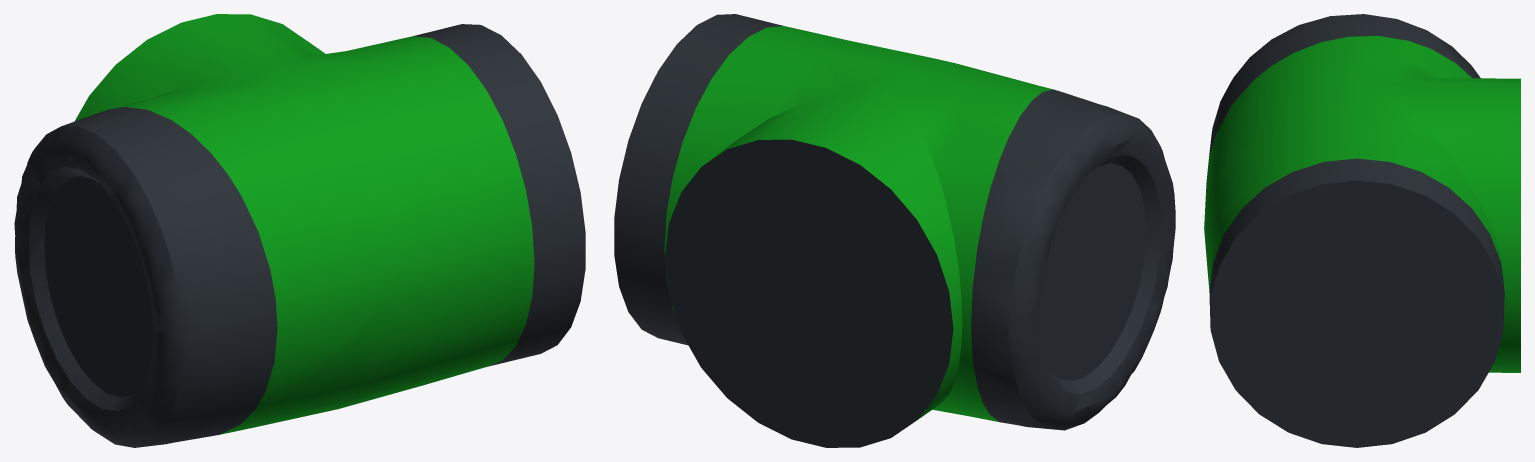
3 views of the same model, side by side, from view 1: azimuth 30°, elevation 25°; view 2: azimuth 150°, elevation 25°; view 3: azimuth 270°, elevation 25° (orthographic). The views are drawn at different scales.
Parts seen in each view (by area): view 1: Link_5; view 2: Link_5; view 3: Link_5.
Boxes of the visible parts, x1,y1,x2,y2 form: Link_5: [14, 14, 585, 447]; Link_5: [614, 14, 1175, 447]; Link_5: [1204, 14, 1520, 447].
Bounding box in the file's own units: 0.1281 × 0.0944 × 0.0977.
